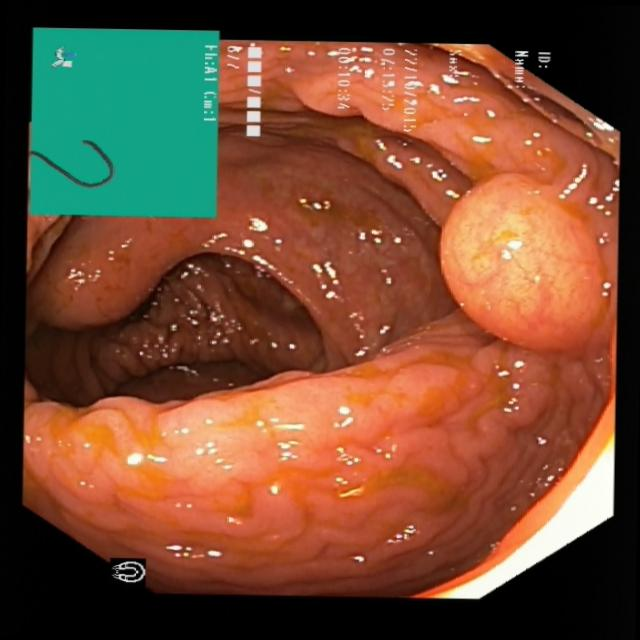Polyps: (437, 162, 621, 357)
